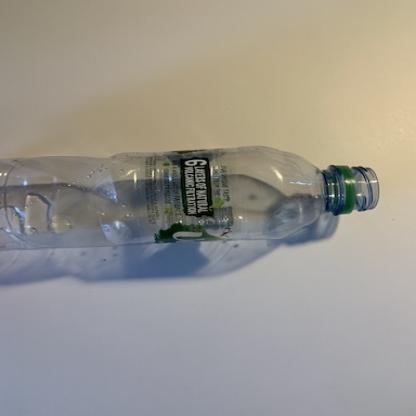trash: (1, 144, 381, 252)
